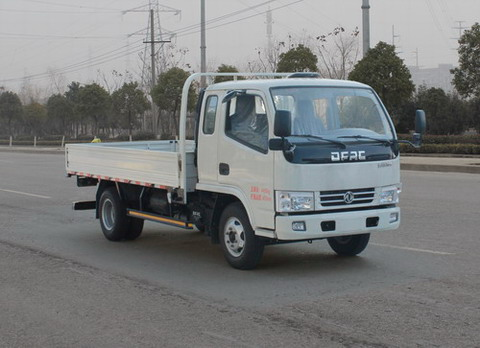smalltruck: (53, 73, 412, 274)
